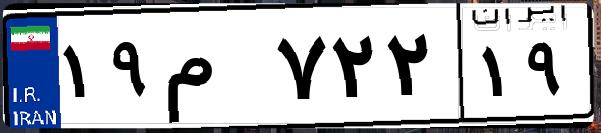1: (57, 26, 110, 100), (475, 38, 525, 113)
2: (385, 28, 445, 110), (330, 28, 385, 110)
7: (270, 28, 330, 110)
9: (525, 38, 570, 115), (110, 28, 158, 98)
م: (158, 20, 270, 120)
